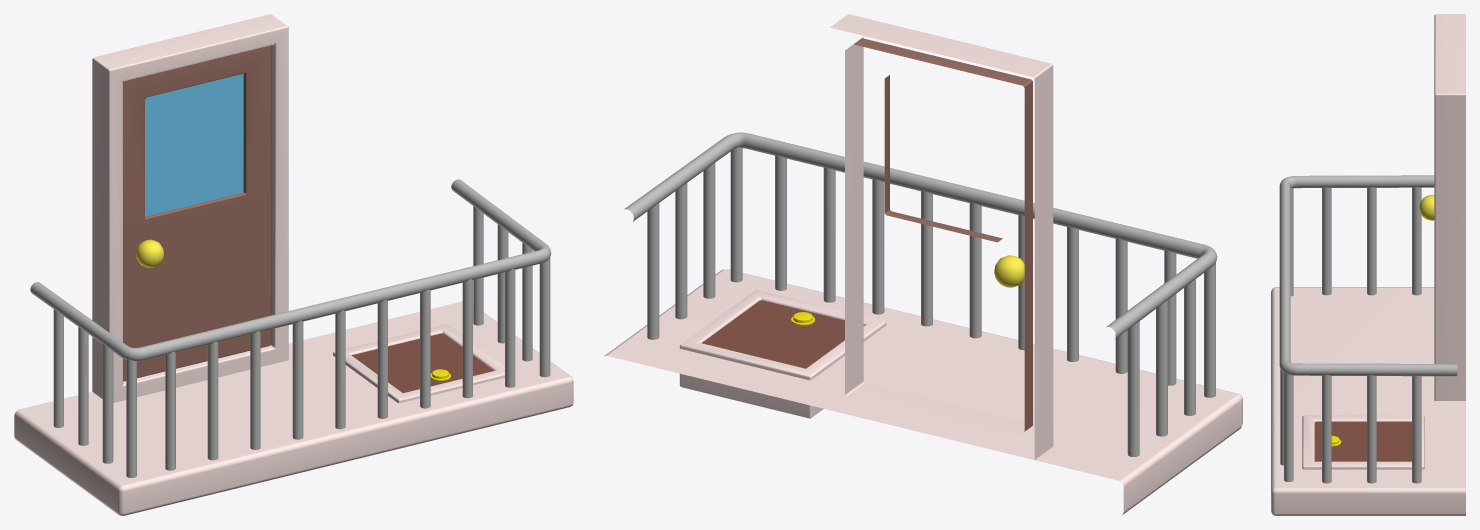
Rendered from City_13_Balcony_1.glb.
The picture shows the model from 3 angles, left to right: view 1: azimuth 30°, elevation 25°; view 2: azimuth 150°, elevation 25°; view 3: azimuth 270°, elevation 25°; orthographic projection. The views are drawn at different scales.
Parts seen in each view (by area): view 1: City_13_Balcony_1; view 2: City_13_Balcony_1; view 3: City_13_Balcony_1.
Part boxes in pixels (<box>): City_13_Balcony_1: <box>14,14,573,515</box>; City_13_Balcony_1: <box>604,14,1242,514</box>; City_13_Balcony_1: <box>1271,14,1465,515</box>.
Size of the model in its own units: 3.22 by 2.5 by 1.3.
1 material, 1 textured.
